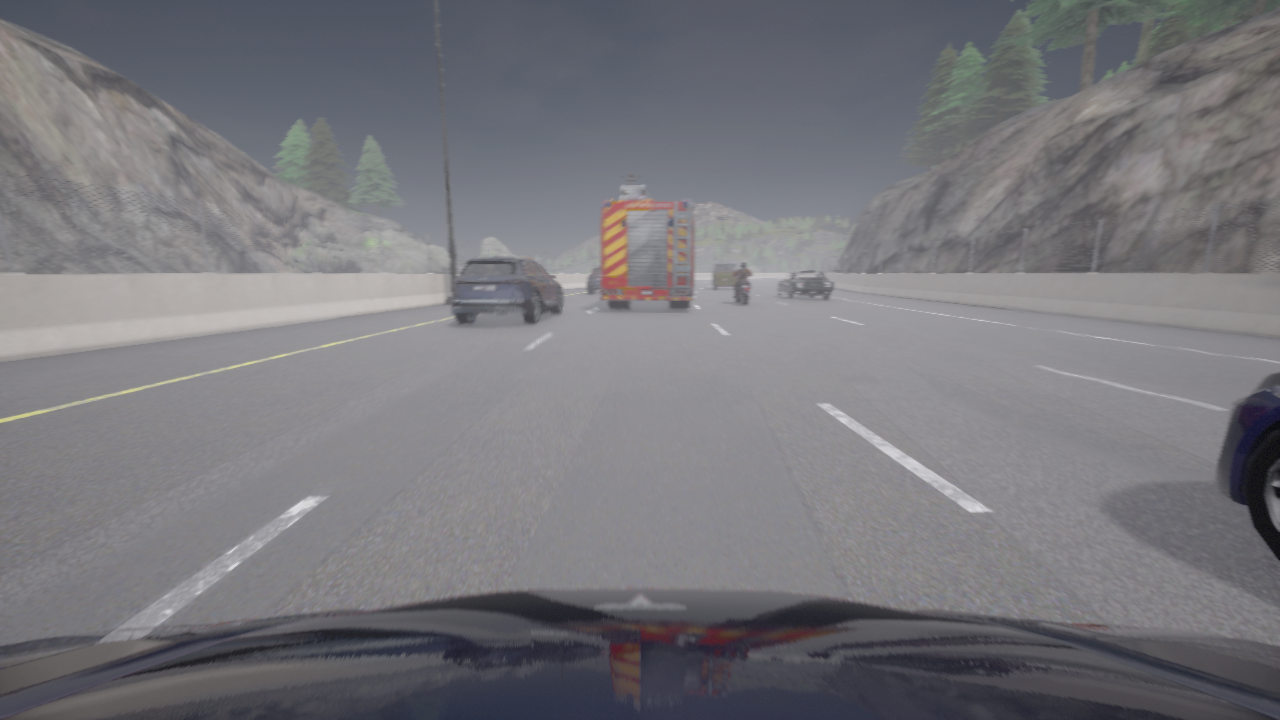cyclist: (0, 588, 1279, 719), (1215, 371, 1279, 561), (600, 185, 693, 308), (452, 254, 562, 323), (777, 271, 834, 299), (713, 263, 737, 289), (732, 271, 749, 304), (587, 266, 600, 293)
